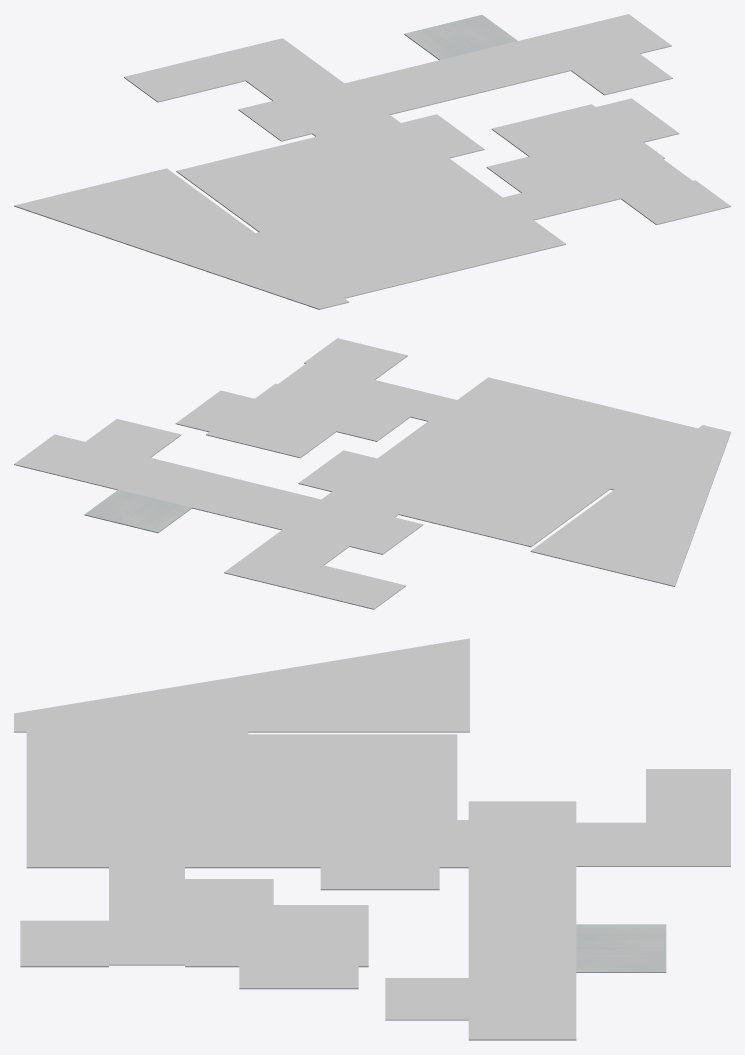
Rendered from HotelFloor.glb.
The picture shows the model from 3 angles, top to bottom: view 1: azimuth 30°, elevation 25°; view 2: azimuth 150°, elevation 25°; view 3: azimuth 270°, elevation 25°; orthographic projection. The views are drawn at different scales.
Visible parts, largest first — view 1: HotelFloor.007, HotelFloor.009, HotelFloor.002, HotelFloor.012, HotelFloor.011, HotelFloor.005, HotelFloor.010; view 2: HotelFloor.007, HotelFloor.009, HotelFloor.002, HotelFloor.012, HotelFloor.011, HotelFloor.005, HotelFloor.010; view 3: HotelFloor.007, HotelFloor.009, HotelFloor.002, HotelFloor.012, HotelFloor.011, HotelFloor.005, HotelFloor.010.
Part boxes in pixels (x1,y1,x2,y2): HotelFloor.007: (176, 98, 692, 298); HotelFloor.009: (238, 14, 671, 141); HotelFloor.002: (14, 168, 349, 309); HotelFloor.012: (124, 38, 343, 102); HotelFloor.011: (404, 14, 517, 60); HotelFloor.005: (621, 180, 730, 224); HotelFloor.010: (571, 53, 672, 95); HotelFloor.007: (175, 363, 697, 547); HotelFloor.009: (14, 434, 423, 554); HotelFloor.002: (530, 425, 730, 586); HotelFloor.012: (224, 529, 405, 609); HotelFloor.011: (84, 489, 191, 533); HotelFloor.005: (304, 338, 407, 379); HotelFloor.010: (85, 419, 181, 457); HotelFloor.007: (26, 731, 468, 989); HotelFloor.009: (468, 801, 576, 1040); HotelFloor.002: (14, 638, 469, 732); HotelFloor.012: (576, 769, 730, 866); HotelFloor.011: (576, 924, 666, 972); HotelFloor.005: (20, 920, 108, 967); HotelFloor.010: (385, 978, 468, 1020).
Bounding box in the file's own units: 74.92 × 0.1 × 56.6.
1 material, 1 textured.
